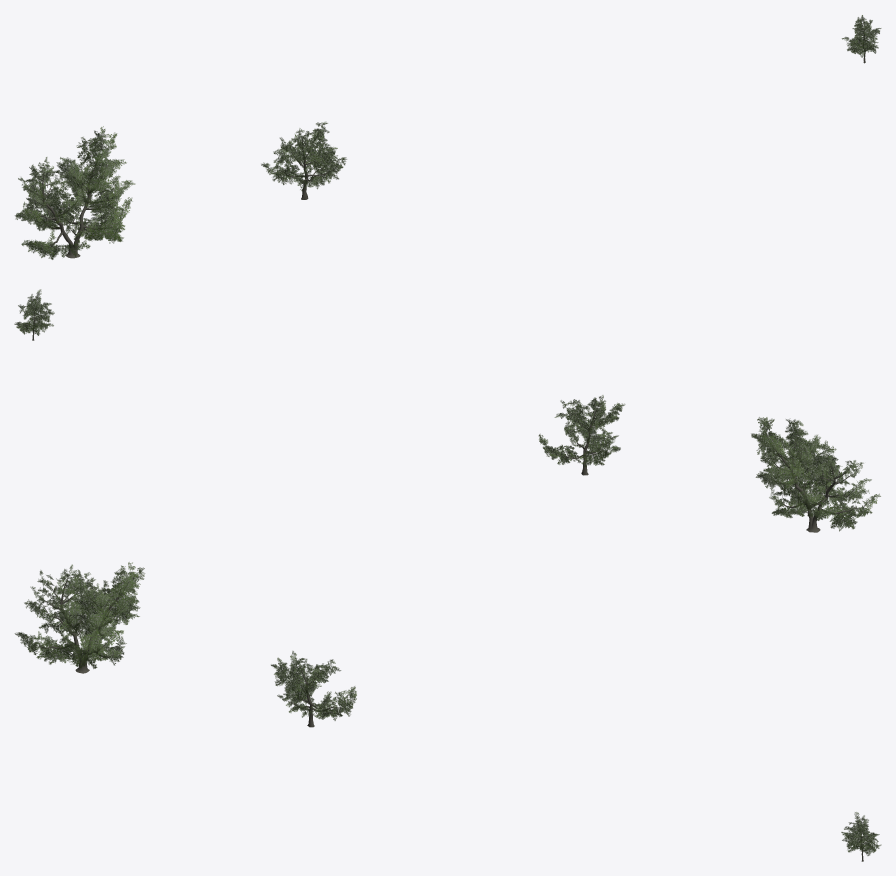
Rendered from tree-oak-pack.glb.
3 renders of one model, top to bottom at view 1: azimuth 30°, elevation 25°; view 2: azimuth 150°, elevation 25°; view 3: azimuth 330°, elevation 25°, orthographic.
Parts seen in each view (by area): view 1: Large_oak_tree_003_LOD0, Big_oak_tree__001_LOD0, Medium_oak_tree__003_LOD0; view 2: Large_oak_tree_003_LOD0, Big_oak_tree__001_LOD0, Medium_oak_tree__003_LOD0; view 3: Large_oak_tree_003_LOD0, Big_oak_tree__001_LOD0, Medium_oak_tree__003_LOD0.
Part boxes in pixels (x1,y1,x2,y2): Large_oak_tree_003_LOD0: [15, 126, 135, 259]; Big_oak_tree__001_LOD0: [261, 121, 346, 199]; Medium_oak_tree__003_LOD0: [842, 15, 881, 63]; Large_oak_tree_003_LOD0: [751, 417, 880, 532]; Big_oak_tree__001_LOD0: [538, 395, 625, 475]; Medium_oak_tree__003_LOD0: [14, 289, 54, 340]; Large_oak_tree_003_LOD0: [15, 562, 144, 673]; Big_oak_tree__001_LOD0: [271, 651, 356, 727]; Medium_oak_tree__003_LOD0: [841, 812, 881, 861].
Size of what is drawn, in the model's own units: 224 by 28.16 by 25.76.
Materials: 2 (2 with a texture image).
